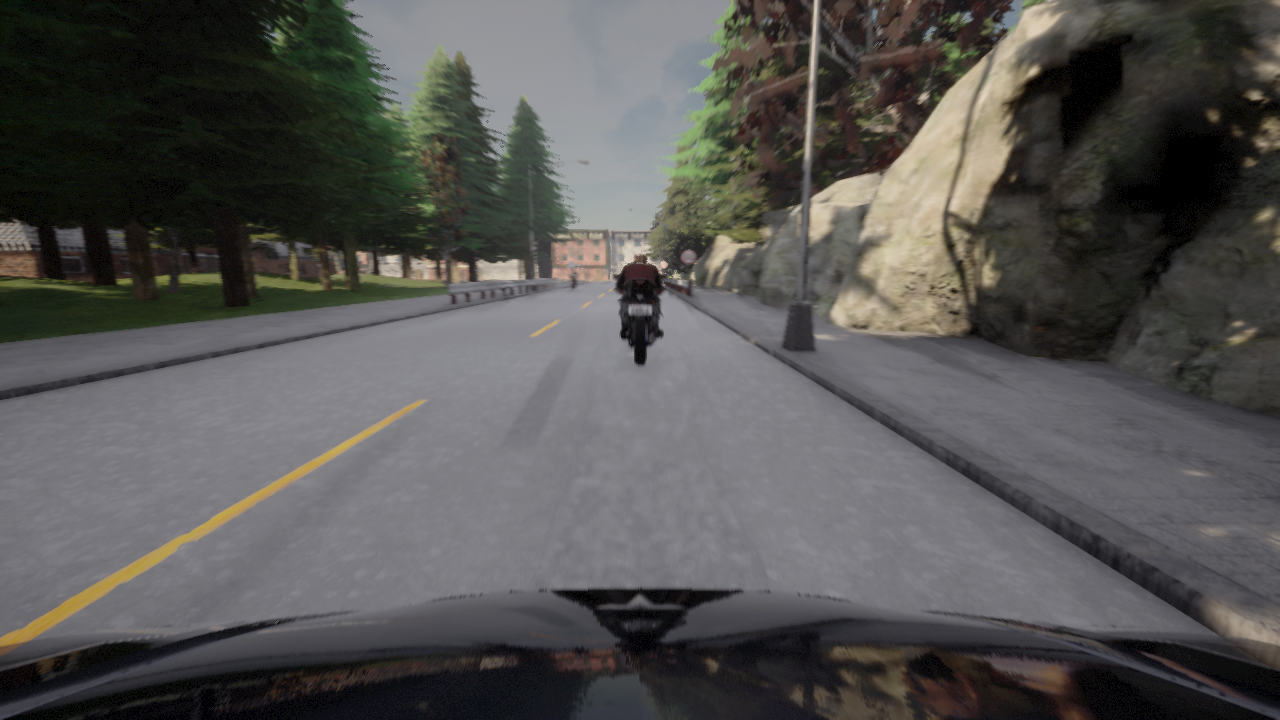cyclist: (0, 588, 1279, 719), (613, 274, 666, 364), (570, 274, 577, 290)
pedestrian: (699, 274, 703, 288)
